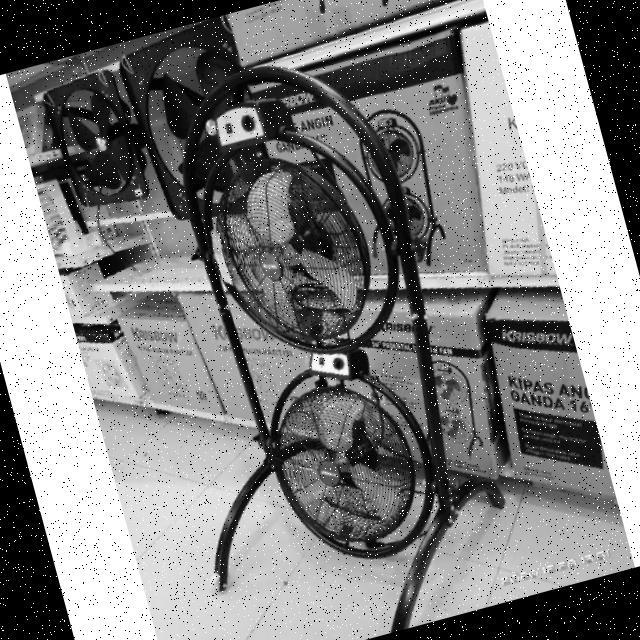fan: (132, 121, 436, 389), (252, 351, 468, 581)
